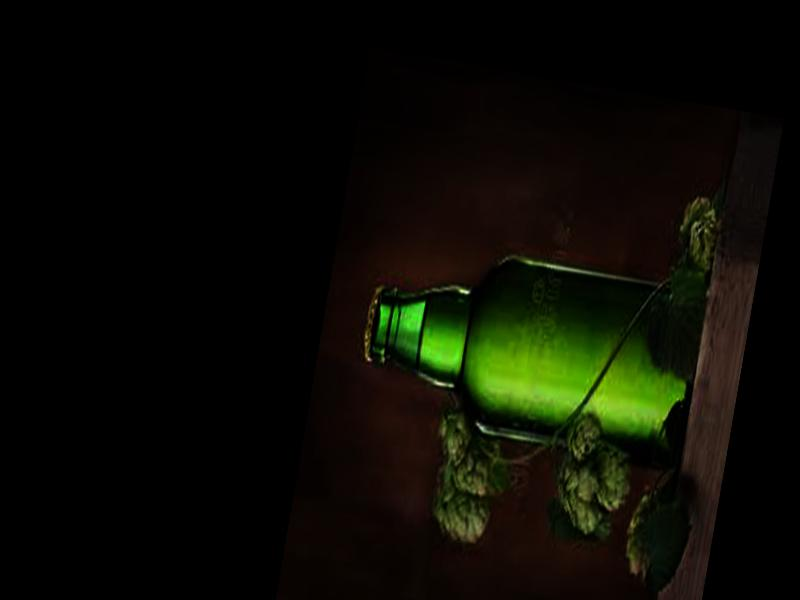Beer: (350, 232, 715, 464)
